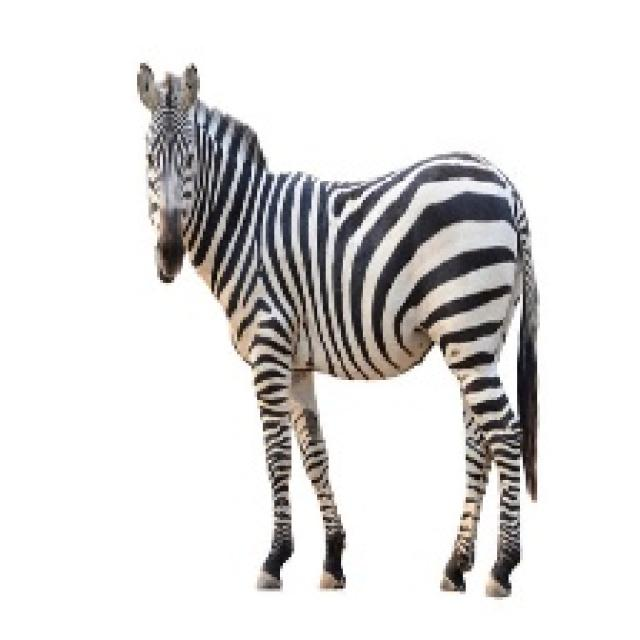animal: (118, 70, 600, 617)
